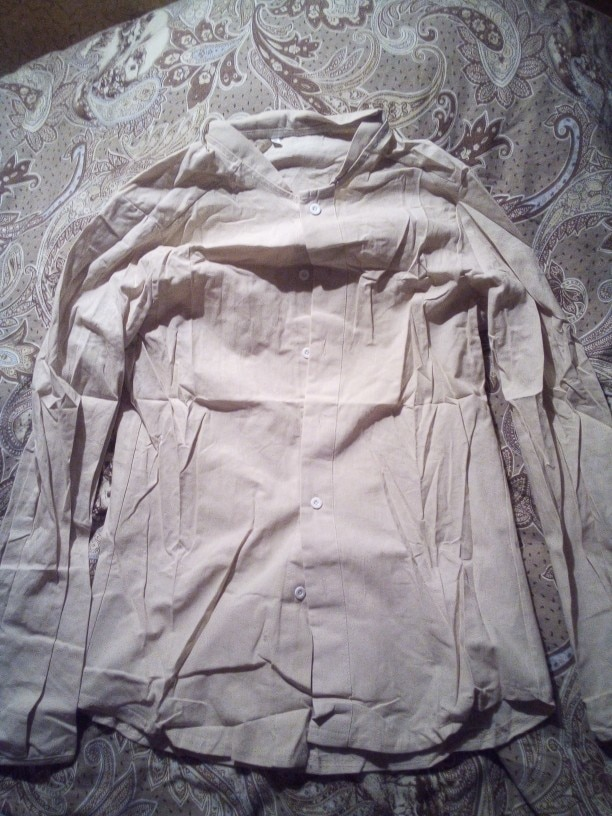shirts: (46, 109, 604, 736)
